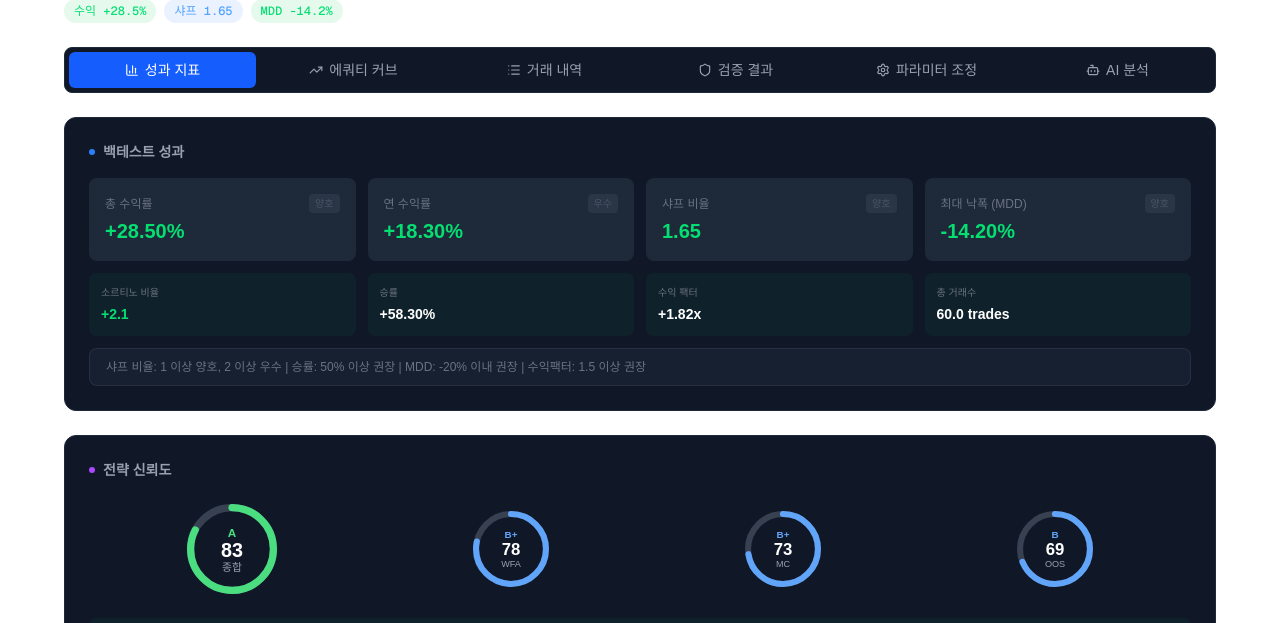
Test case: StrategyDetailPage › switches to validation tab and shows WFA, MC, OOS sections
This screenshot has width=1280, height=623.
Click the button "검증 결과" at (736, 70), box [642,52,829,88]
(page scrolled)
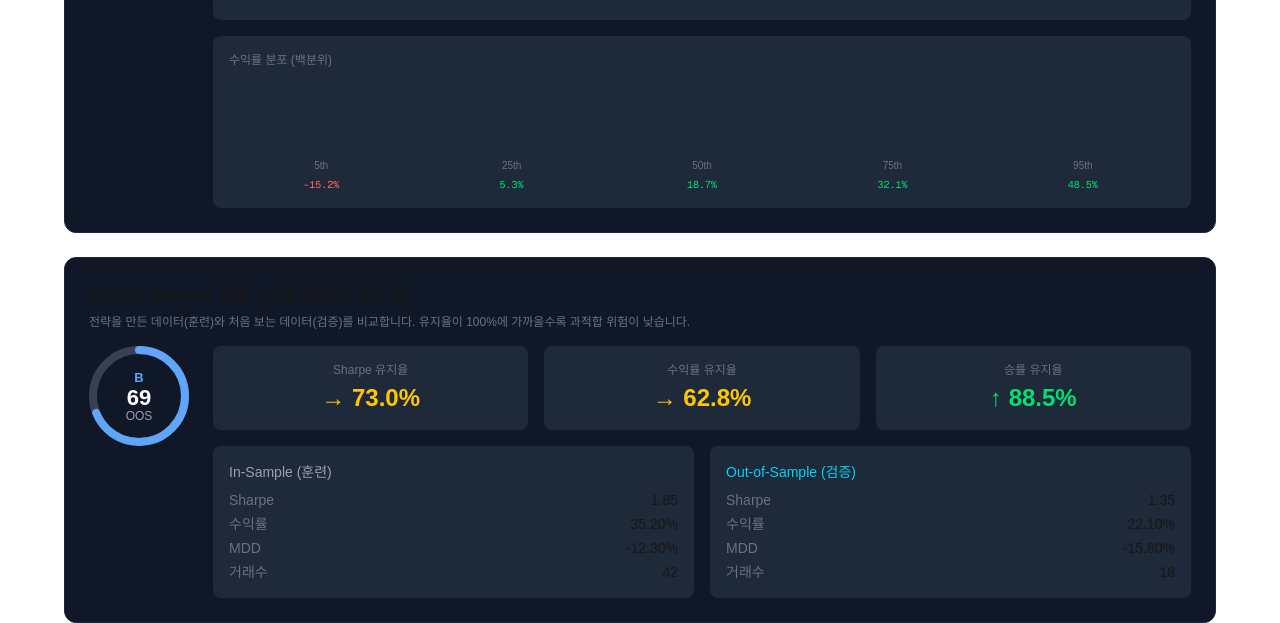
Now the text "→ 73.0%" is shown, box [321,384,420,411]
Now the text "→ 62.8%" is shown, box [653,384,751,411]
Now the text "↑ 88.5%" is shown, box [990,384,1077,411]
